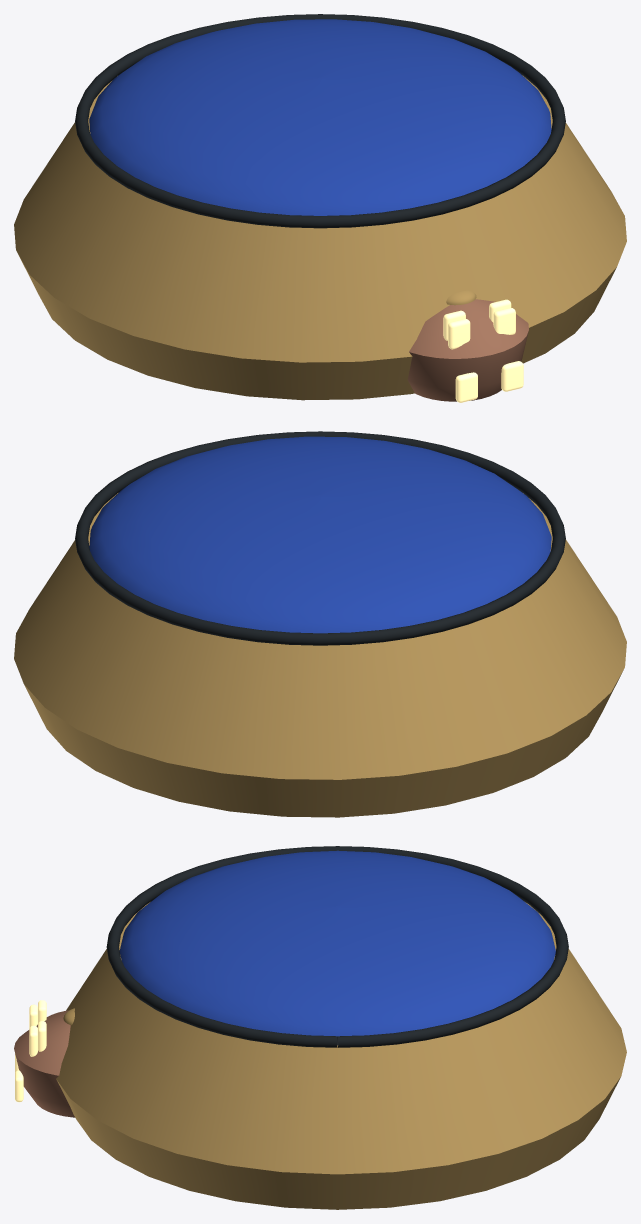
The picture shows the model from 3 angles, top to bottom: view 1: azimuth 30°, elevation 25°; view 2: azimuth 150°, elevation 25°; view 3: azimuth 270°, elevation 25°; orthographic projection. The views are drawn at different scales.
Visible parts, largest first — view 1: Silo flared bunker, Silo armoured lid, Silo lid seam, Bulb shaped chamber, Inset service window, Inset service window.001, Inset service window.002, Inset service window.003; view 2: Silo flared bunker, Silo armoured lid, Silo lid seam; view 3: Silo flared bunker, Silo armoured lid, Silo lid seam, Bulb shaped chamber.
Boxes of the visible parts, box(x1,y1,x2,y2) form: Silo flared bunker: box(14, 75, 626, 400); Silo armoured lid: box(89, 19, 551, 215); Silo lid seam: box(75, 14, 565, 228); Bulb shaped chamber: box(407, 299, 528, 401); Inset service window: box(455, 372, 477, 402); Inset service window.001: box(501, 361, 523, 391); Inset service window.002: box(448, 319, 470, 349); Inset service window.003: box(493, 308, 515, 334); Silo flared bunker: box(14, 493, 626, 817); Silo armoured lid: box(89, 436, 551, 633); Silo lid seam: box(75, 431, 565, 645); Silo flared bunker: box(56, 902, 626, 1209); Silo armoured lid: box(119, 850, 555, 1036); Silo lid seam: box(106, 846, 568, 1047); Bulb shaped chamber: box(14, 1010, 74, 1117).
Size of the model in its own units: 2.34 by 0.85 by 2.48.
